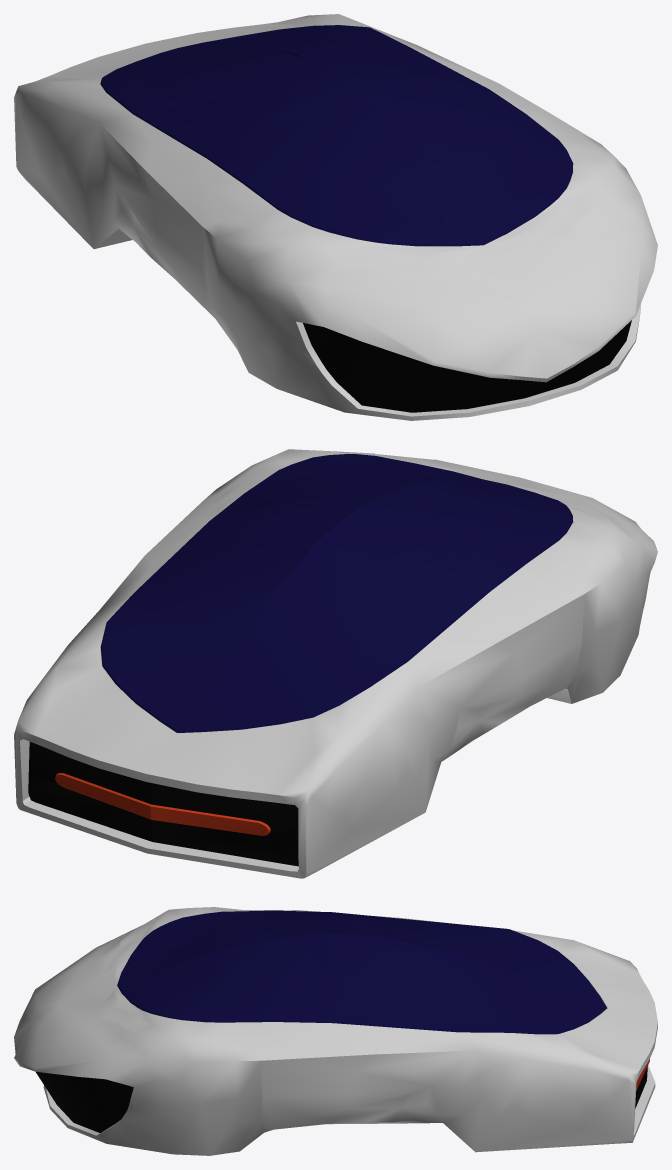
File: ship.fbx
The picture shows the model from 3 angles, top to bottom: view 1: azimuth 30°, elevation 25°; view 2: azimuth 150°, elevation 25°; view 3: azimuth 270°, elevation 25°; orthographic projection. The views are drawn at different scales.
Parts seen in each view (by area): view 1: Techo_1; view 2: Techo_1; view 3: Techo_1.
Part boxes in pixels (box(x1,y1,x2,y2)): Techo_1: box(14, 14, 657, 420); Techo_1: box(14, 449, 657, 878); Techo_1: box(14, 907, 657, 1155).
Size of the model in its own units: 455 by 217 by 825.
